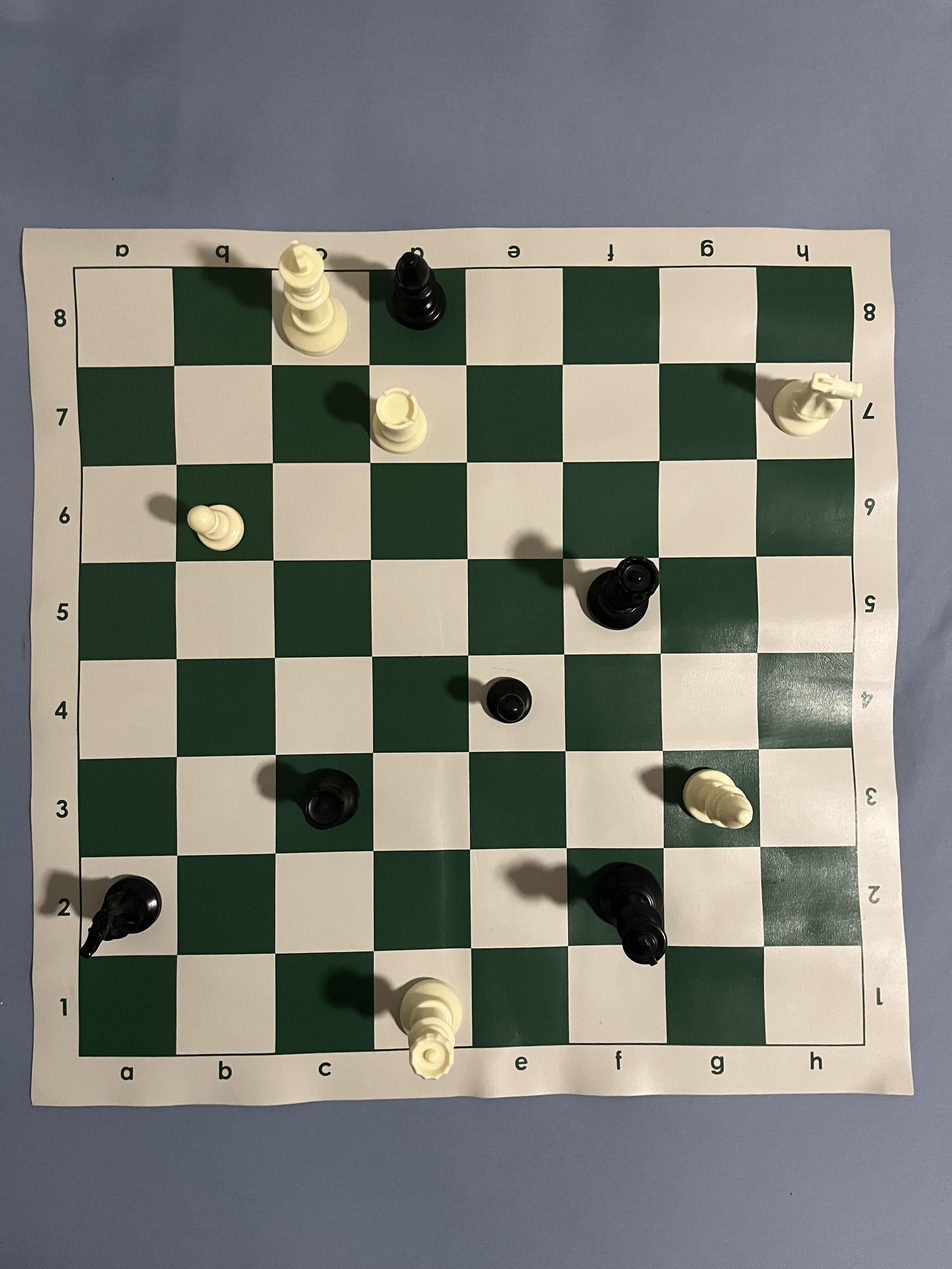black_bishop: (386, 250, 446, 331)
black_king: (595, 862, 668, 967)
black_knight: (77, 874, 163, 959)
black_pawn: (484, 677, 532, 725)
black_queen: (586, 556, 660, 631)
black_rook: (303, 767, 361, 832)
white_bishop: (682, 767, 754, 830)
white_king: (278, 239, 349, 357)
white_knight: (771, 372, 863, 438)
white_pawn: (187, 504, 244, 551)
white_queen: (397, 977, 464, 1082)
white_rook: (371, 386, 428, 454)
